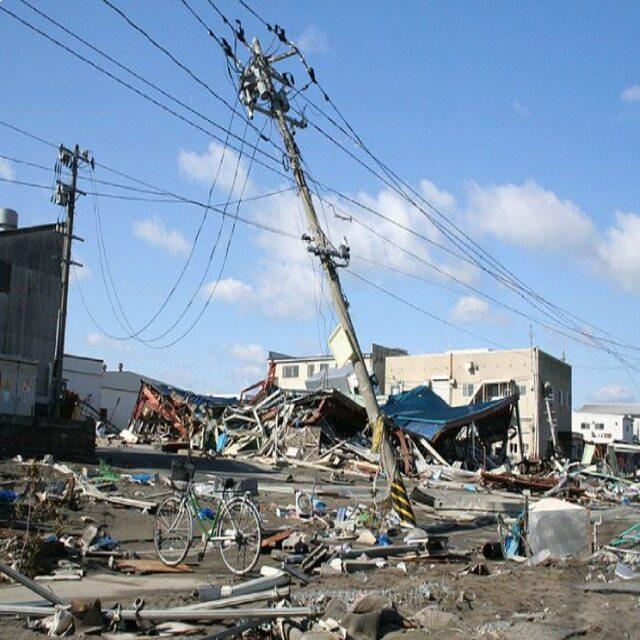Inclined Pole: (215, 10, 423, 535)
